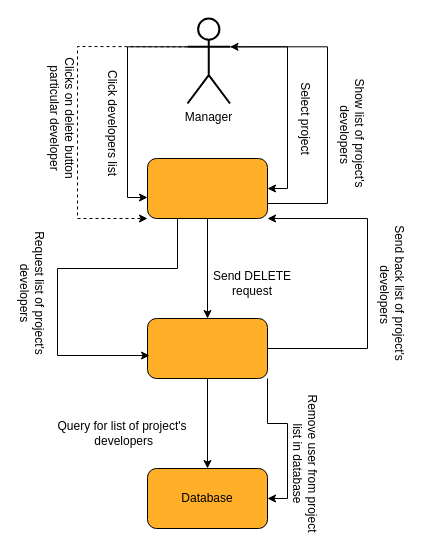
Some shapes in this 424 by 555 pixel diagram are drawn without their labels. The centre of each missing label's shape, as x and y in pixels:
"Frontend" belongs at pixel 207 188.
"REST API" belongs at pixel 207 348.
